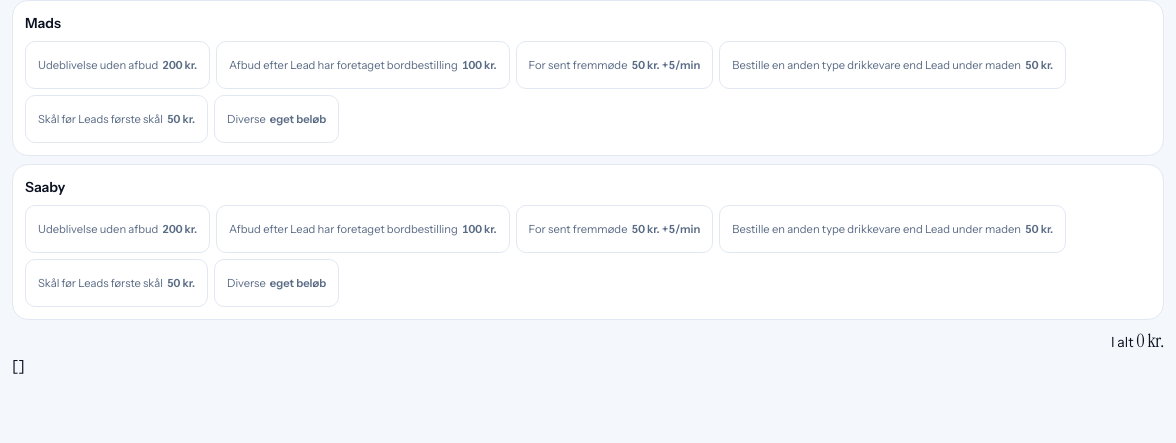
Scenario: amounts are written the way the rest of the app writes money
Click the 1st button "For sent fremmøde 50 kr. +5/min" at (614, 65), box [516,41,713,89]
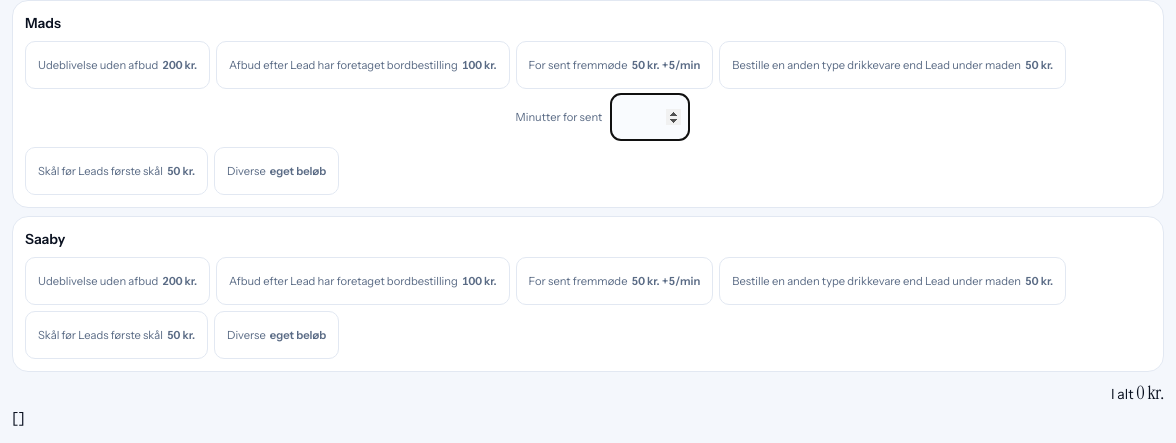
Type "240" into the number field named "Minutter for sent — Mads" at (650, 117), box [610,93,690,141]
Then press Enter
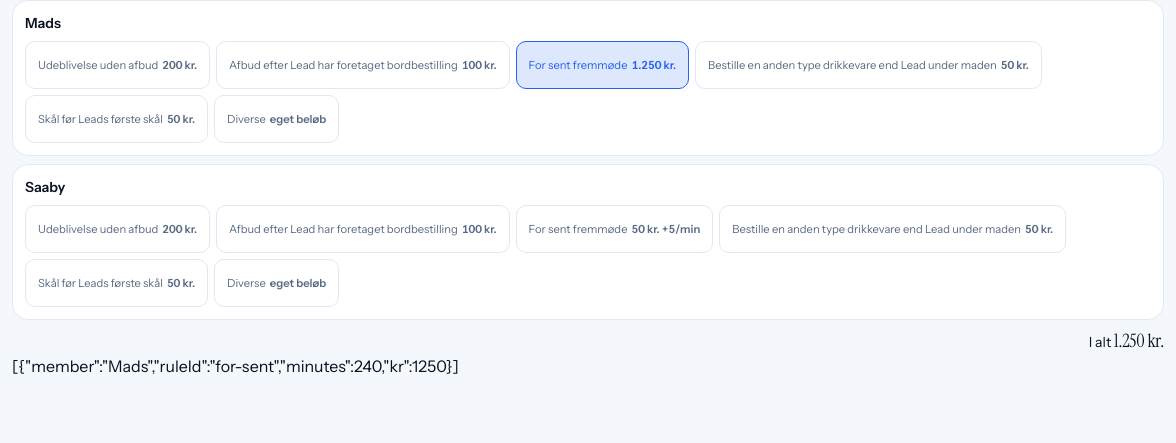
Check: the button "For sent fremmøde 1.250 kr." is shown, box [516,41,689,89]
Check: the text "I alt 1.250 kr." is shown, box [1089,329,1164,353]
